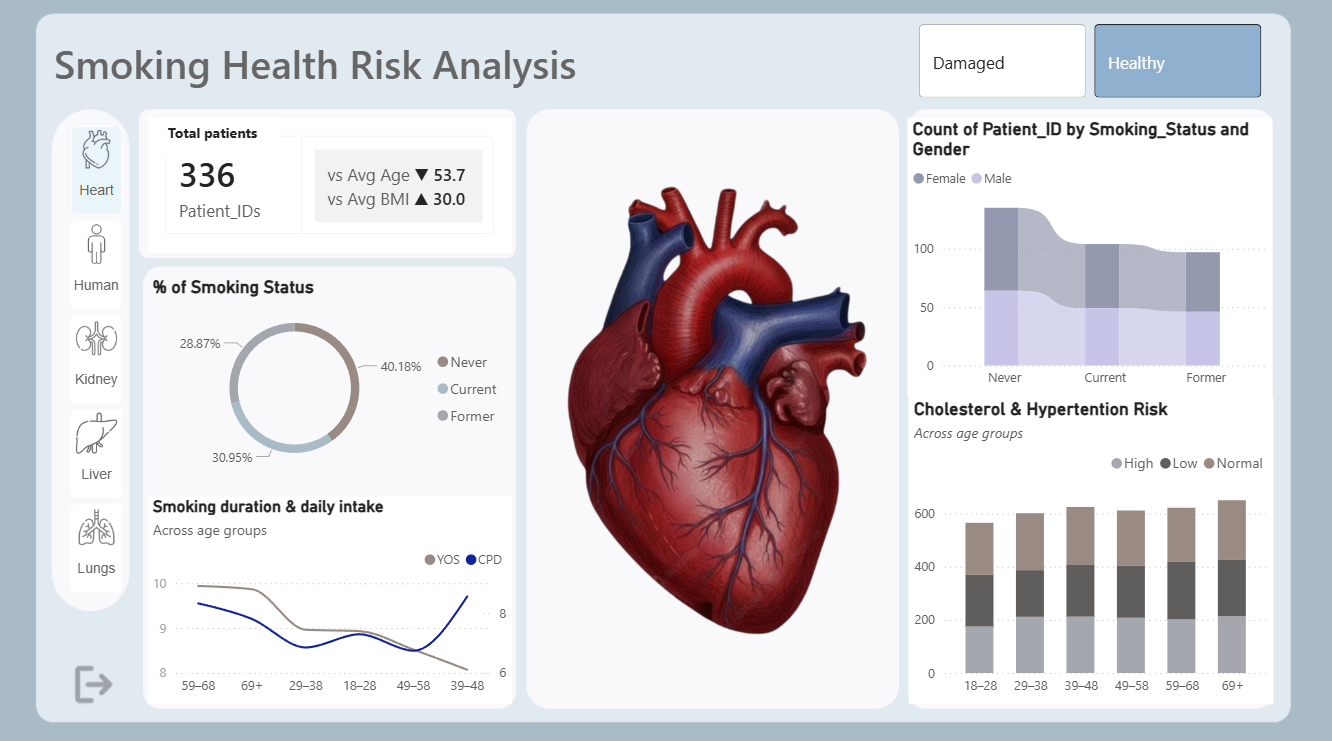

The page's visual inventory and layout, read from the dashboard file:
{"tool":"powerbi","page":{"name":"Page 1","canvas":[1280,720],"ordinal":0},"visuals":[{"type":"cardVisual","fields":{"Data":["CountNonNull(health_dataset.Patient_ID)"]},"box":[145.5,118,347.2,129],"z":0},{"type":"advancedSlicerVisual","fields":{"Values":["condition.Organ_Condition"]},"box":[875.5,23.3,336.2,81],"z":1},{"type":"ChicletSlicer1448559807354","fields":{"Category":["Organs.Organ"],"Image":["Organs.Icon_URL"]},"box":[64.5,118,70,465.2],"z":2},{"type":"image","box":[511.8,118,347.2,558.5],"z":3},{"type":"donutChart","title":"% of Smoking Status","fields":{"Category":["health_dataset.Smoking_Status"],"Y":["CountNonNull(health_dataset.Smoking_Status)"]},"box":[145.5,269,347.2,193.5],"z":4},{"type":"lineChart","title":"Smoking duration & daily intake ","fields":{"Category":["health_dataset.Age Group"],"Y":["Avg(health_dataset.Years_of_Smoking)"],"Y2":["Avg(health_dataset.Cigarettes_Per_Day)"]},"box":[145.5,478.9,347.2,197.6],"z":5},{"type":"ribbonChart","fields":{"Category":["health_dataset.Smoking_Status"],"Y":["CountNonNull(health_dataset.Patient_ID)"],"Series":["health_dataset.Gender"]},"box":[868.6,118,347.2,266.2],"z":6},{"type":"columnChart","title":"Cholesterol & Hypertention Risk","fields":{"Category":["health_dataset.Age Group"],"Y":["Avg(health_dataset.Cholesterol_Level)"],"Series":["health_dataset.BP_Risk"]},"box":[870,384.2,347.2,292.3],"z":7},{"type":"textbox","box":[159.2,118,111.1,38.4],"z":8},{"type":"textbox","box":[50.8,35.7,668.3,68.6],"z":9}]}

Visuals, with their boxes in screenshot pixels (x1, y1, x2, y2), scaled from the page's 1280x720 canvas onto the 1332x741 screenshot:
cardVisual - CountNonNull(health_dataset.Patient_ID): 151,121,513,254
advancedSlicerVisual - condition.Organ_Condition: 911,24,1261,107
ChicletSlicer1448559807354 - Organs.Organ x Organs.Icon_URL: 67,121,140,600
image: 533,121,894,696
"% of Smoking Status" donutChart: 151,277,513,476
"Smoking duration & daily intake " lineChart: 151,493,513,696
ribbonChart - health_dataset.Smoking_Status x CountNonNull(health_dataset.Patient_ID): 904,121,1265,395
"Cholesterol & Hypertention Risk" columnChart: 905,395,1267,696
textbox: 166,121,281,161
textbox: 53,37,748,107
